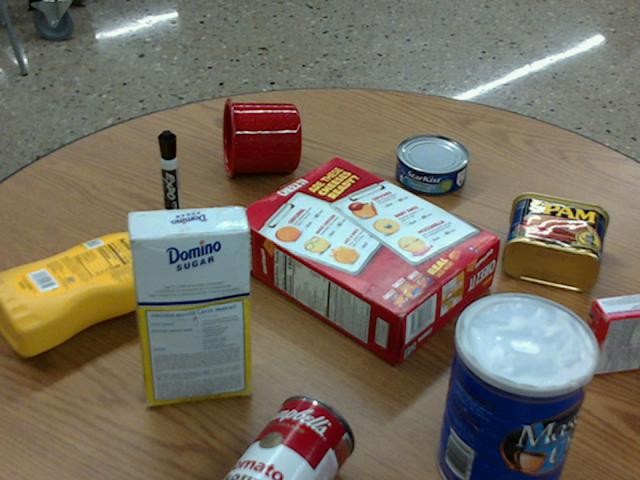cracker_box: (231, 156, 497, 359)
gelatin_box: (576, 293, 639, 375)
large_marker: (158, 130, 181, 232)
master_chef_can: (436, 293, 596, 479)
mug: (222, 98, 301, 178)
mustard_bottle: (0, 232, 189, 355)
potted_meat_can: (502, 191, 609, 291)
sugar_box: (127, 205, 248, 403)
tomato_soup_can: (224, 394, 354, 479)
tuna_fish_can: (396, 134, 469, 194)
